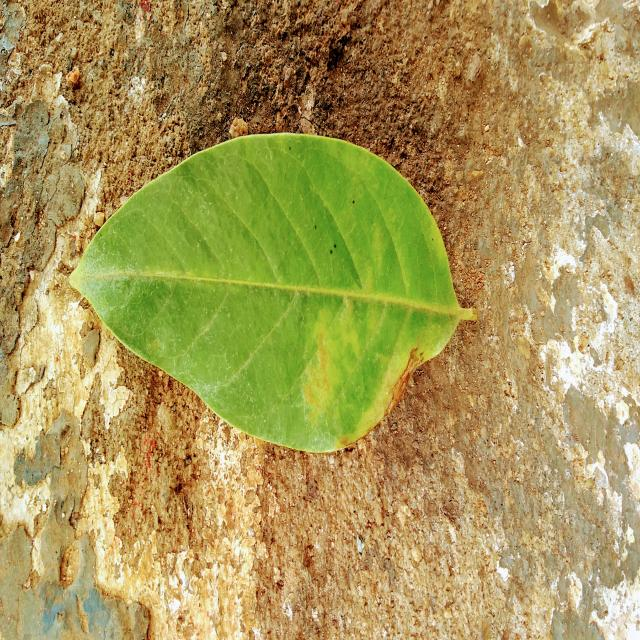sampige: (70, 133, 462, 451)
